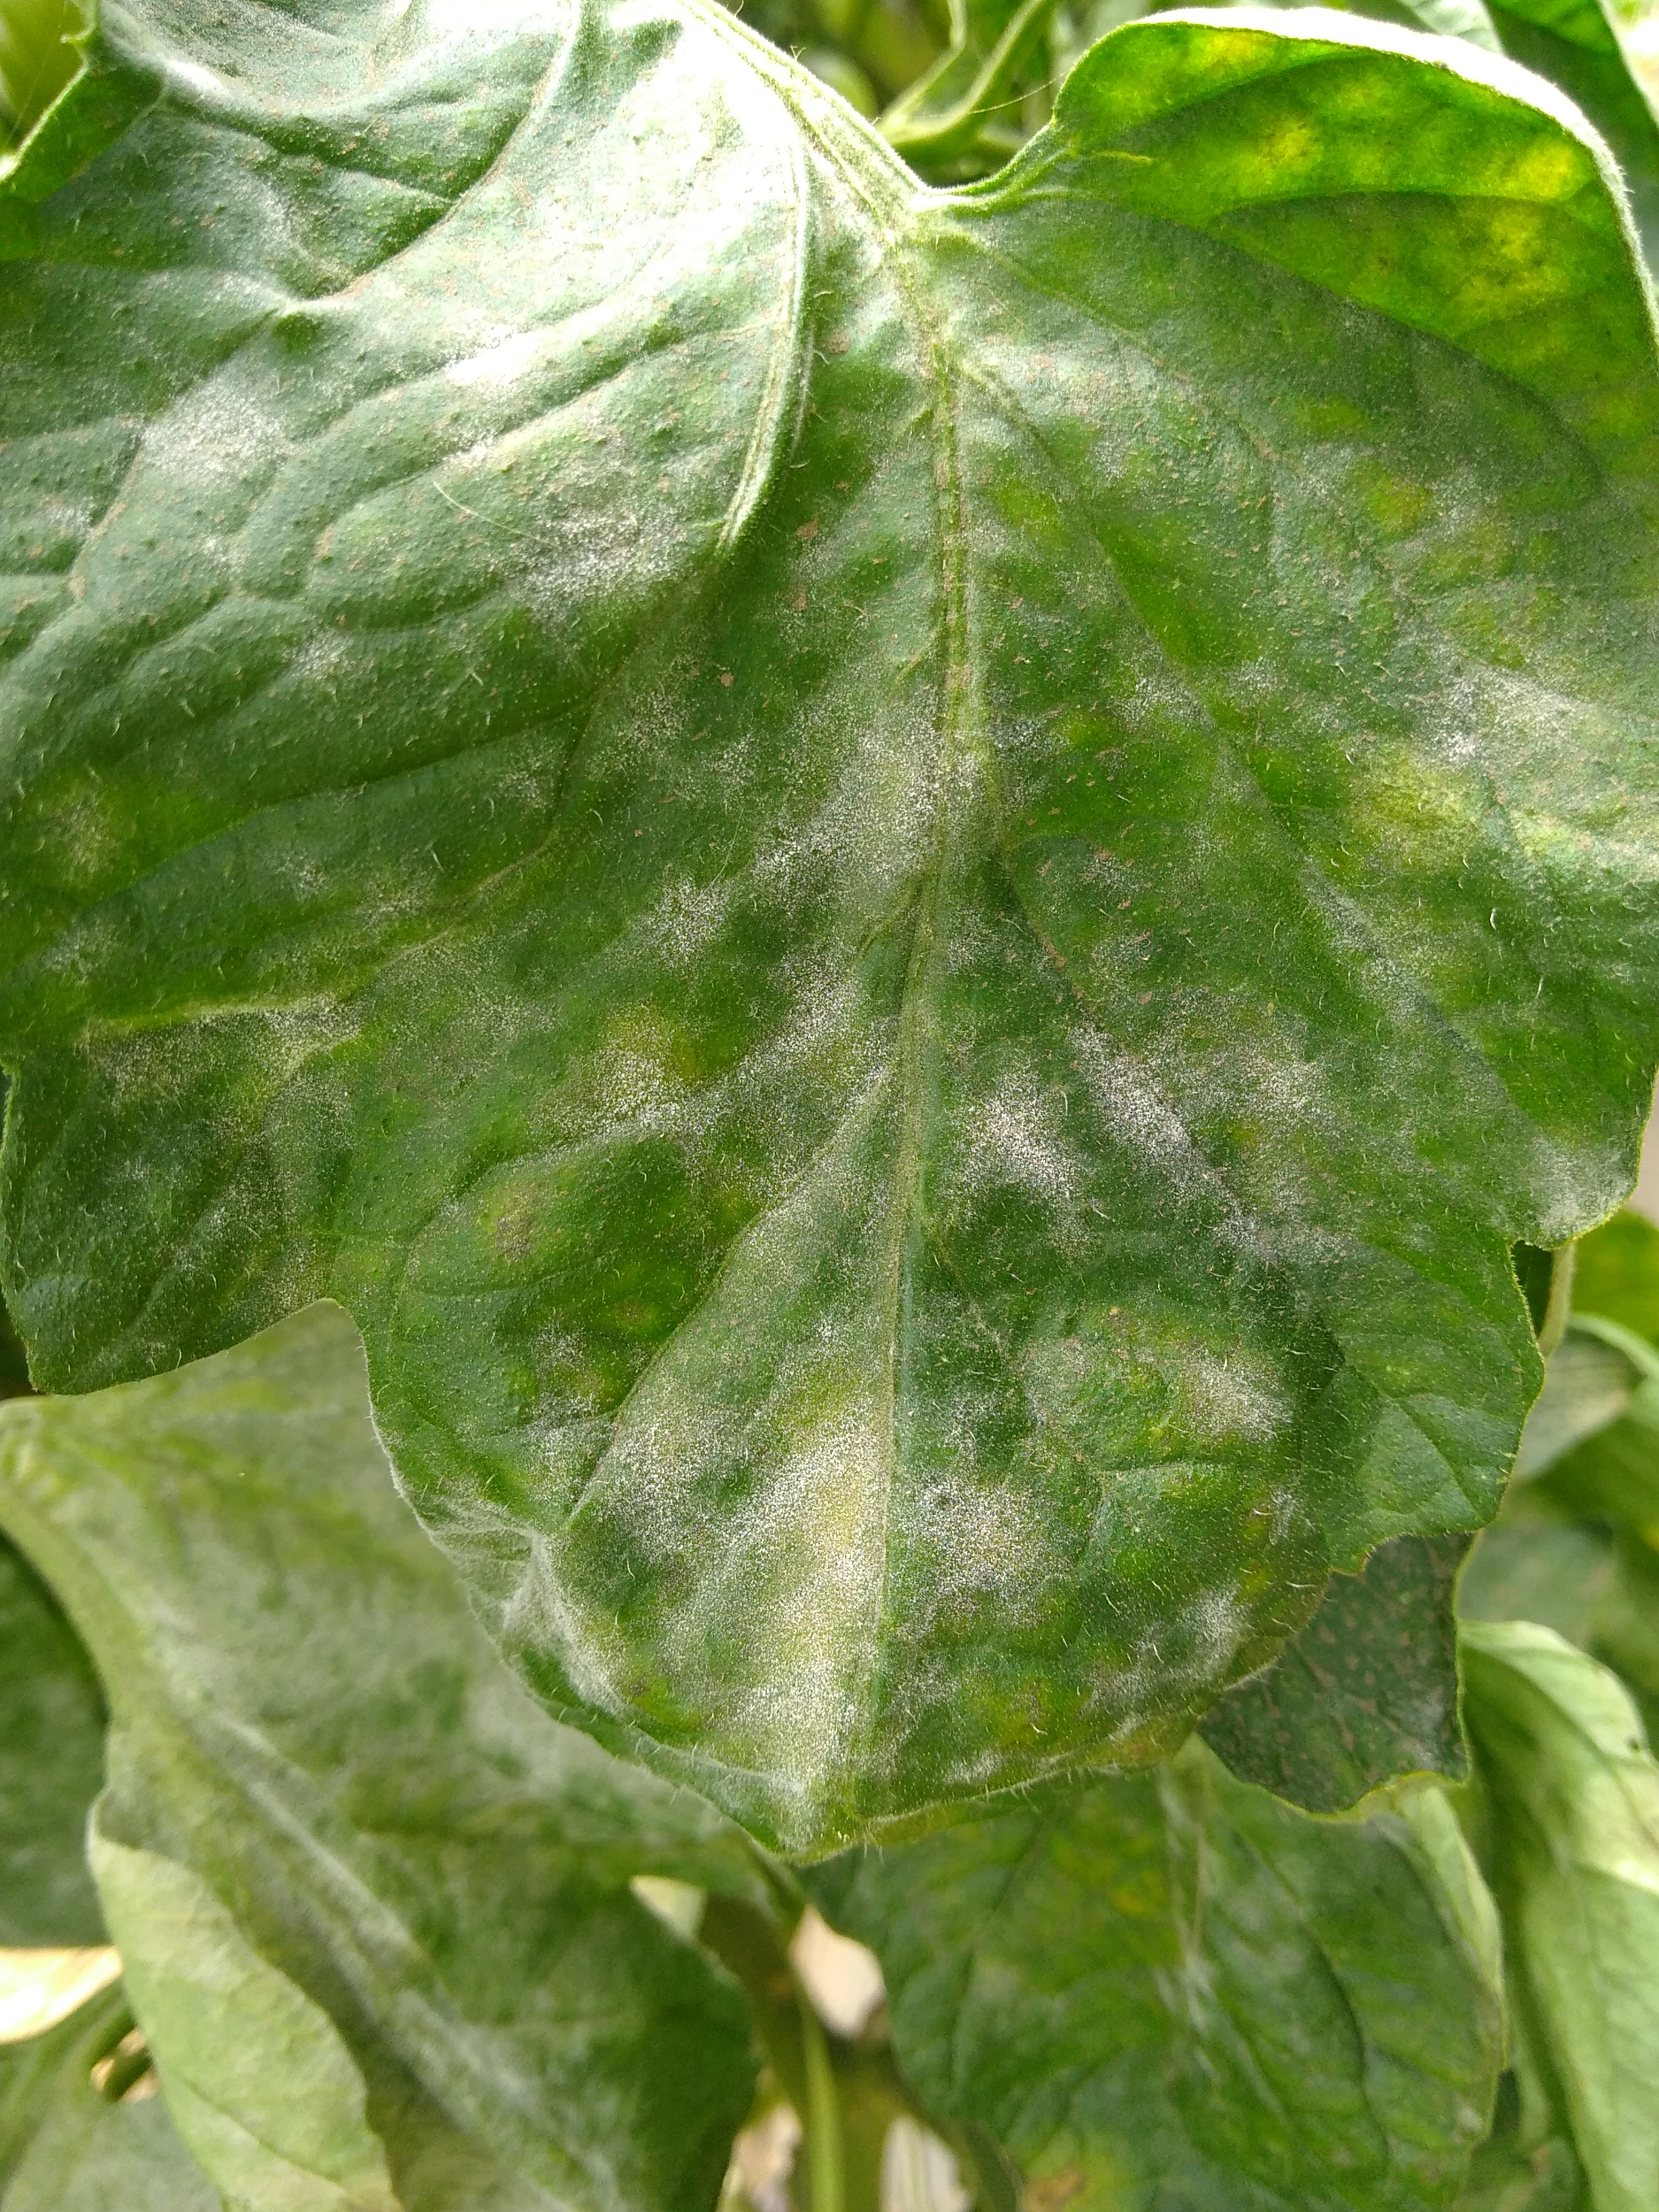blanca: (636, 1426, 1028, 1771), (772, 681, 1035, 906), (999, 1057, 1290, 1240)
